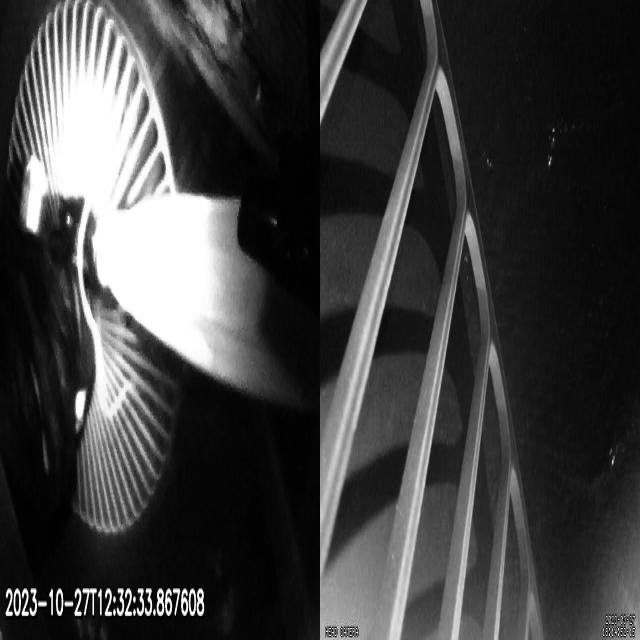head: (20, 154, 45, 234)
